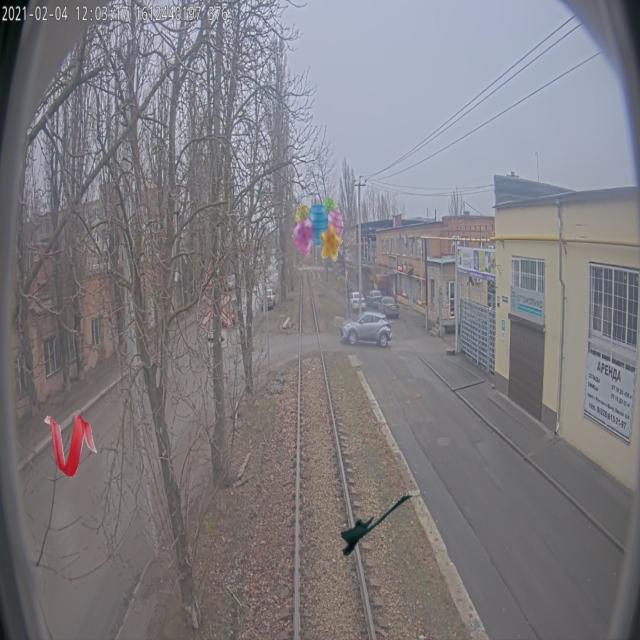balloon: (293, 198, 344, 262)
floating object: (341, 493, 416, 558), (44, 413, 98, 478)
